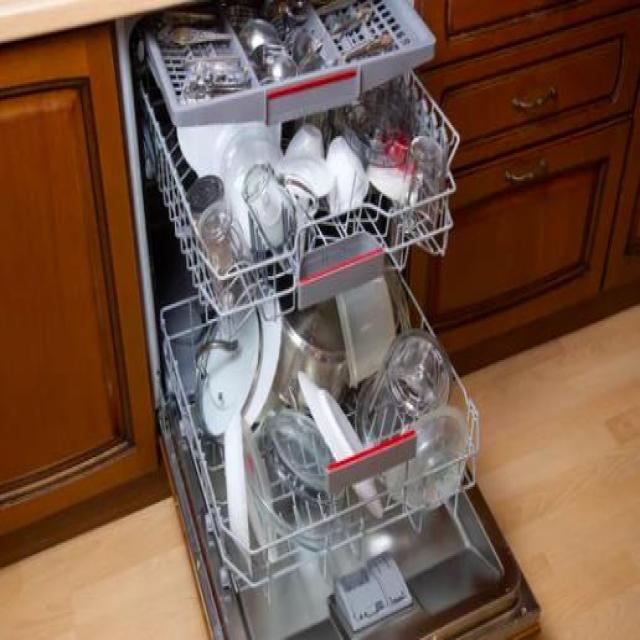dishwasher: (112, 0, 538, 638)
